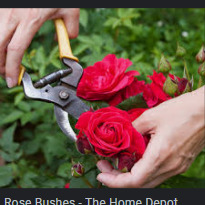RedRose: (74, 103, 147, 166), (75, 54, 139, 103)
